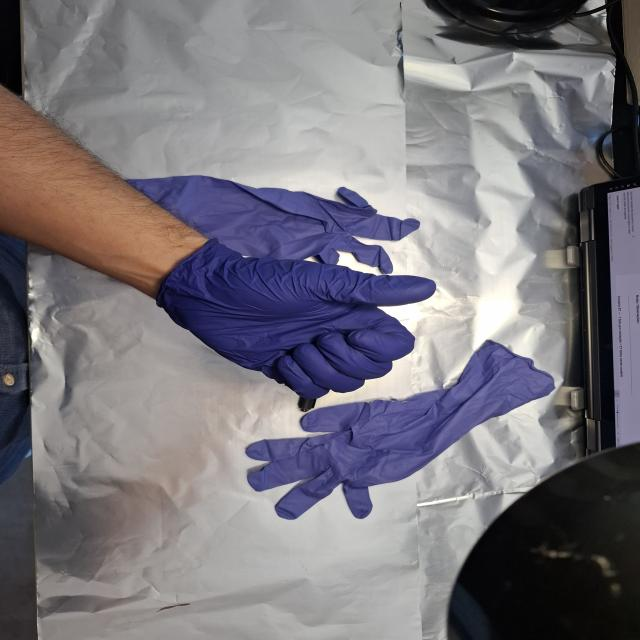glove_on: (154, 233, 440, 401)
